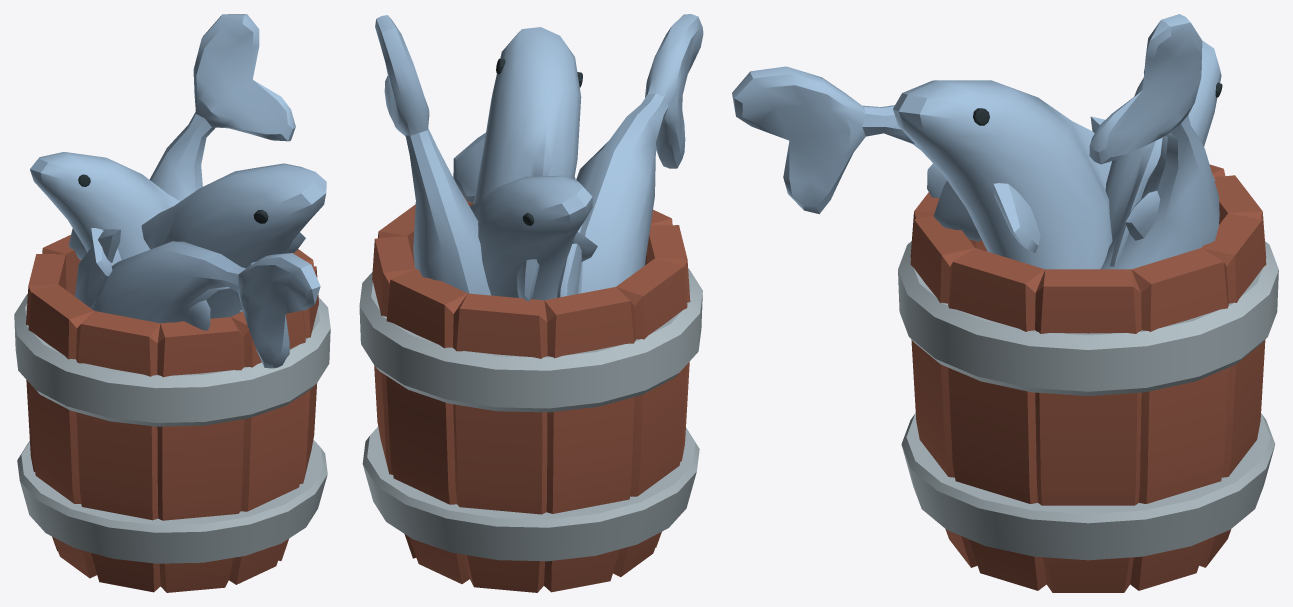
The model's file is bucket_fish.gltf.glb.
3 renders of one model, left to right at view 1: azimuth 30°, elevation 25°; view 2: azimuth 150°, elevation 25°; view 3: azimuth 270°, elevation 25°, orthographic. The views are drawn at different scales.
Visible parts, largest first — view 1: bucket_fish; view 2: bucket_fish; view 3: bucket_fish.
Part boxes in pixels (left/top/right/bottom): bucket_fish: left=14, top=14, right=330, bottom=592; bucket_fish: left=359, top=14, right=703, bottom=592; bucket_fish: left=732, top=14, right=1278, bottom=592.
Size of the model in its own units: 0.7083 by 1.18 by 1.02.
